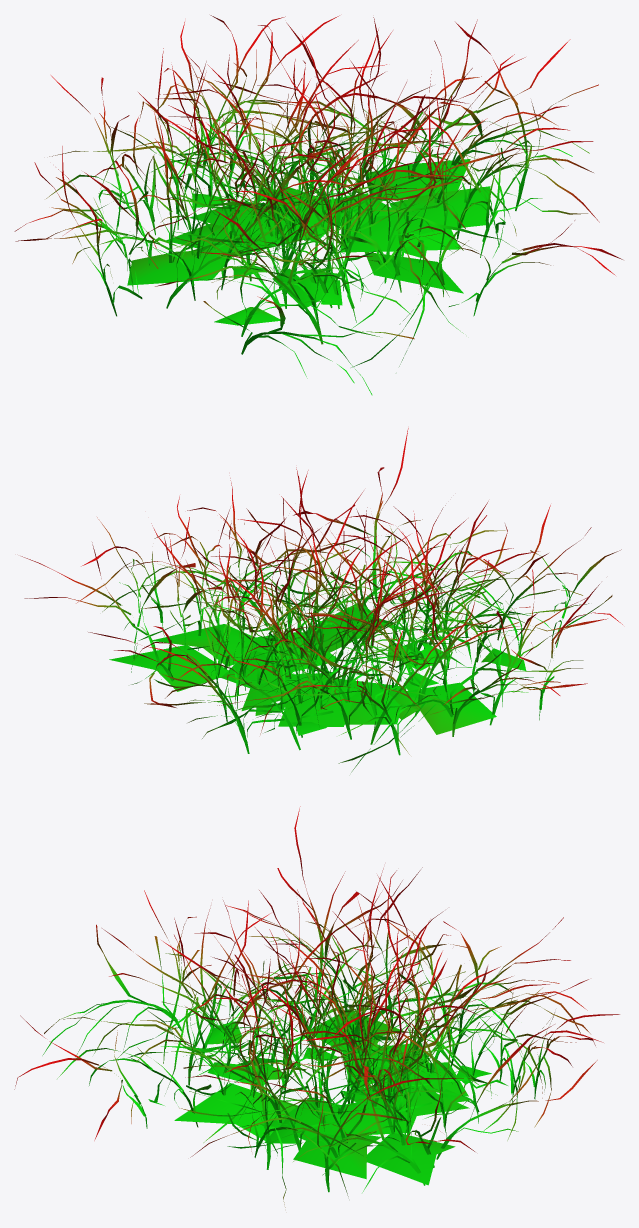
The model's file is Kikuyu Grass_LOD2_Var8_wiljearqx.fbx.
3 renders of one model, top to bottom at view 1: azimuth 30°, elevation 25°; view 2: azimuth 150°, elevation 25°; view 3: azimuth 270°, elevation 25°, orthographic. The views are drawn at different scales.
Parts seen in each view (by area): view 1: _ztag_Var8_LOD2; view 2: _ztag_Var8_LOD2; view 3: _ztag_Var8_LOD2.
Boxes of the visible parts, x1,y1,x2,y2 form: _ztag_Var8_LOD2: [14, 15, 622, 395]; _ztag_Var8_LOD2: [21, 428, 622, 772]; _ztag_Var8_LOD2: [14, 806, 619, 1207].
Size of the model in its own units: 104 by 39 by 97.9.
